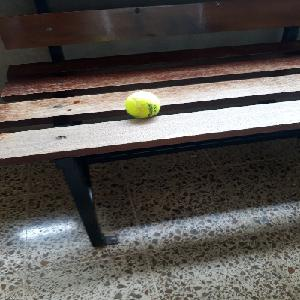Ball: (124, 90, 160, 118)
